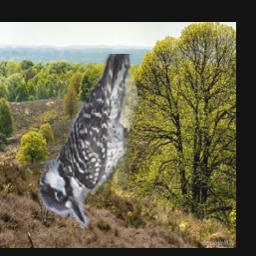Woodpecker: (40, 55, 157, 230)
